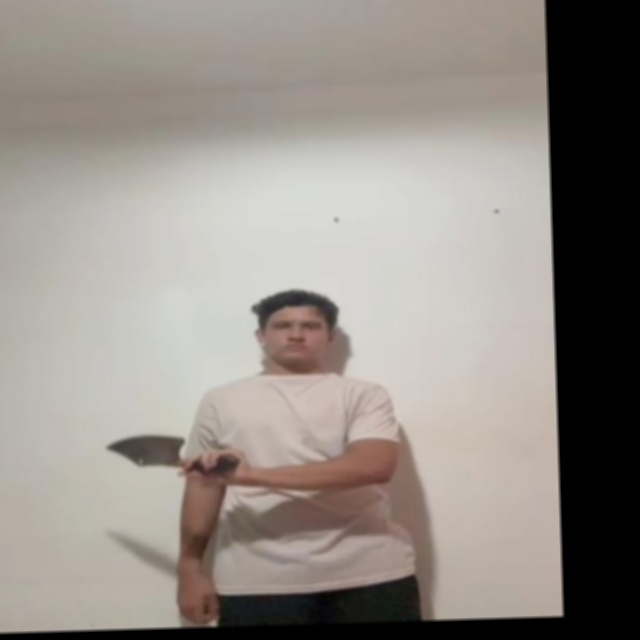Sharp-Object: (106, 433, 191, 467)
